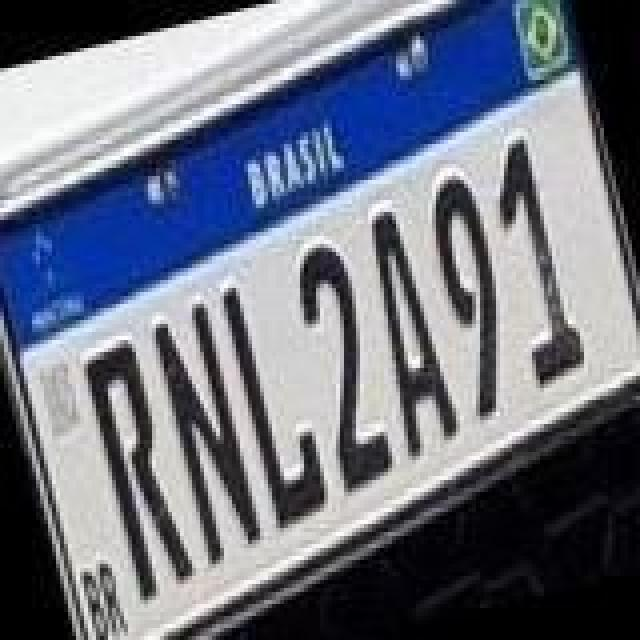1: (478, 128, 594, 384)
2: (284, 232, 404, 496)
9: (414, 166, 530, 426)
A: (350, 200, 466, 456)
L: (216, 268, 336, 532)
N: (146, 296, 270, 568)
R: (76, 336, 196, 608)
